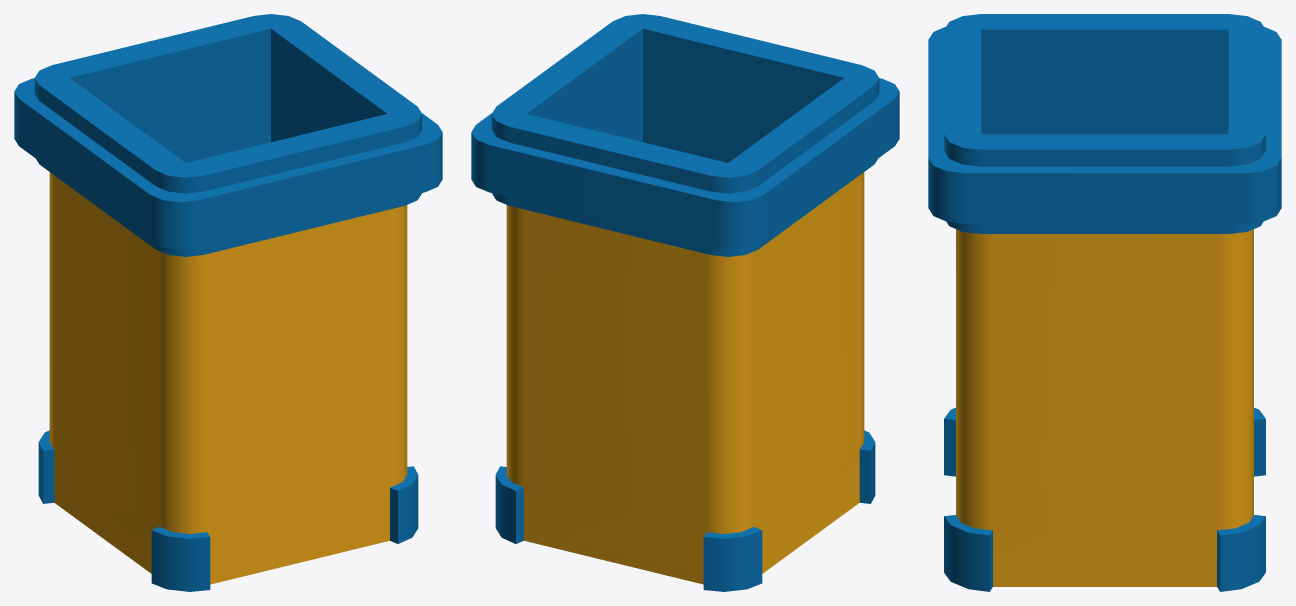
The model's file is Mixed_DustBin_01.fbx.
3 views of the same model, side by side, from view 1: azimuth 30°, elevation 25°; view 2: azimuth 150°, elevation 25°; view 3: azimuth 270°, elevation 25° (orthographic). The views are drawn at different scales.
Visible parts, largest first — view 1: Mixed_DustBin_01; view 2: Mixed_DustBin_01; view 3: Mixed_DustBin_01.
Part boxes in pixels (x1,y1,x2,y2): Mixed_DustBin_01: (14, 14, 442, 591); Mixed_DustBin_01: (471, 14, 899, 591); Mixed_DustBin_01: (928, 14, 1281, 591).
Size of the model in its own units: 116 by 160 by 116.
